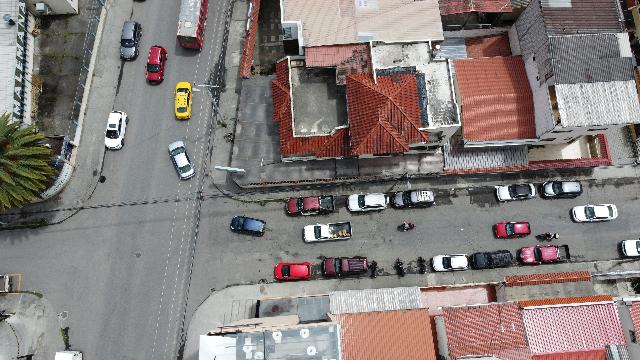Vehiculo: (168, 140, 196, 180), (302, 222, 352, 243), (321, 256, 367, 278), (520, 245, 570, 265), (104, 110, 128, 150), (286, 195, 334, 215), (120, 21, 142, 61), (145, 46, 167, 84), (391, 190, 435, 209), (571, 204, 617, 222), (472, 250, 512, 270), (494, 184, 536, 202), (347, 194, 389, 212), (541, 181, 583, 199), (230, 216, 266, 236), (432, 254, 470, 272), (275, 263, 311, 281), (174, 82, 192, 118), (494, 221, 530, 238), (619, 240, 639, 256), (454, 354, 502, 360)
